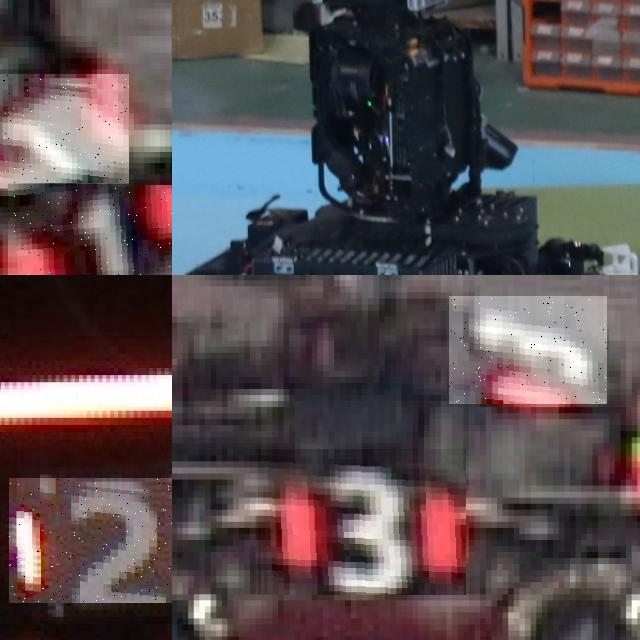R1: (7, 185, 172, 275), (0, 74, 128, 190)
R2: (8, 478, 172, 602)
R3: (258, 449, 466, 595), (449, 296, 607, 404)
